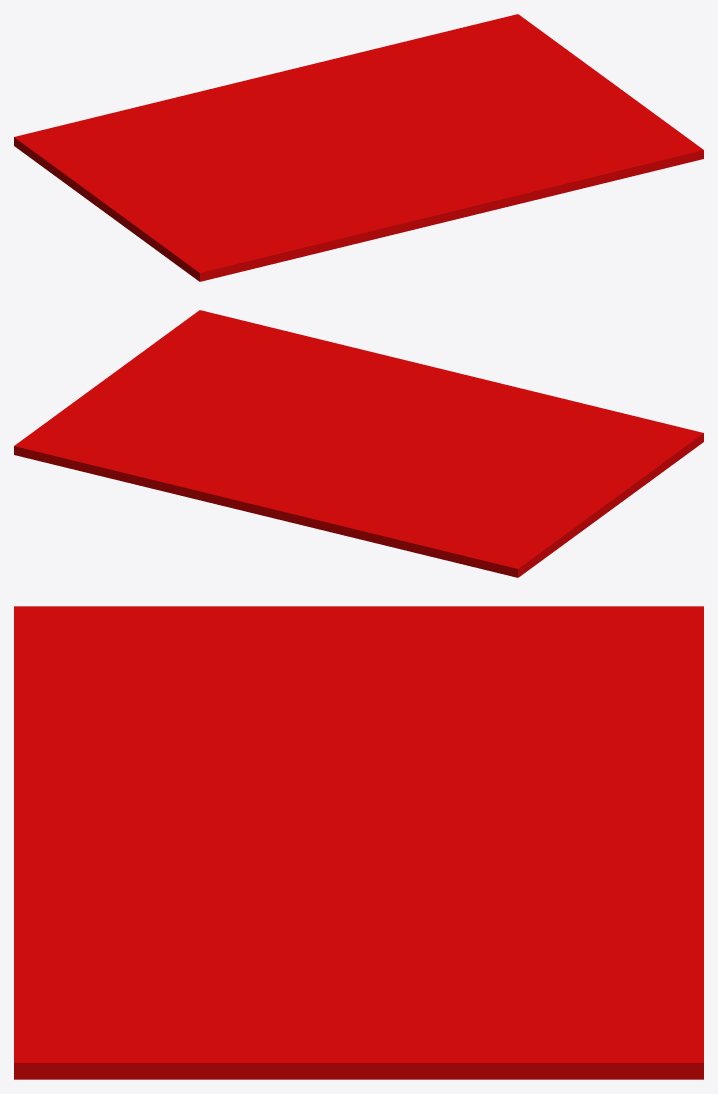
Rendered from Floor_8.fbx.
3 renders of one model, top to bottom at view 1: azimuth 30°, elevation 25°; view 2: azimuth 150°, elevation 25°; view 3: azimuth 270°, elevation 25°, orthographic. The views are drawn at different scales.
Visible parts, largest first — view 1: L20:pCube177; view 2: L20:pCube177; view 3: L20:pCube177.
Part boxes in pixels (bbox=[...]): L20:pCube177: bbox=[14, 14, 703, 281]; L20:pCube177: bbox=[14, 310, 703, 577]; L20:pCube177: bbox=[14, 606, 703, 1079].
Bounding box in the file's own units: 589 × 9.95 × 376.
